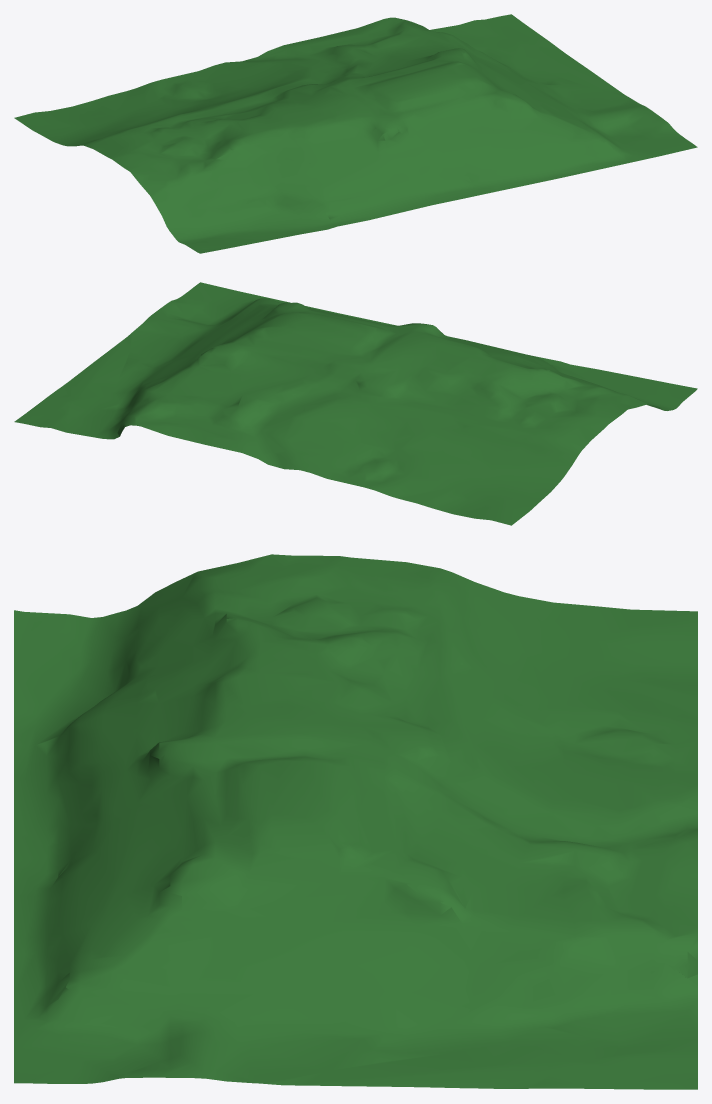
Rendered from Festung-3d.fbx.
3 views of the same model, one above another, from view 1: azimuth 30°, elevation 25°; view 2: azimuth 150°, elevation 25°; view 3: azimuth 270°, elevation 25° (orthographic). The views are drawn at different scales.
Visible parts, largest first — view 1: dgm; view 2: dgm; view 3: dgm.
Part boxes in pixels (x1,y1,x2,y2): dgm: (14,14,697,253); dgm: (14,282,697,525); dgm: (14,554,697,1089).
Size of what is drawn, in the model's own units: 806 by 97.46 by 523.
